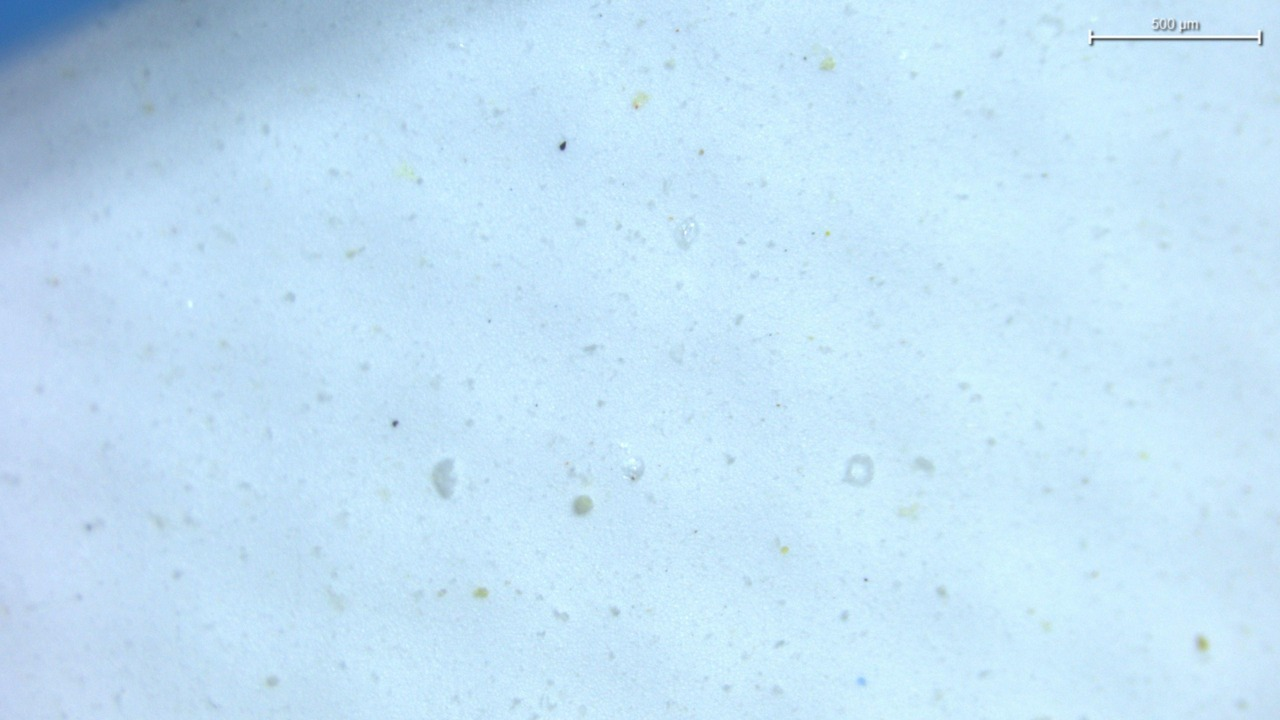microplastic_fragment: (430, 458, 459, 499)
